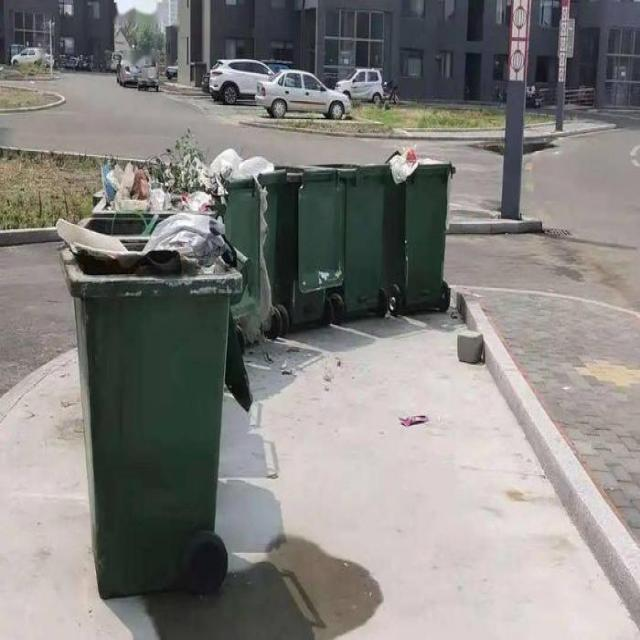garbage_bin: (274, 164, 345, 326), (328, 160, 392, 314)
overflow: (54, 126, 242, 596), (384, 150, 455, 308), (222, 148, 284, 326)
